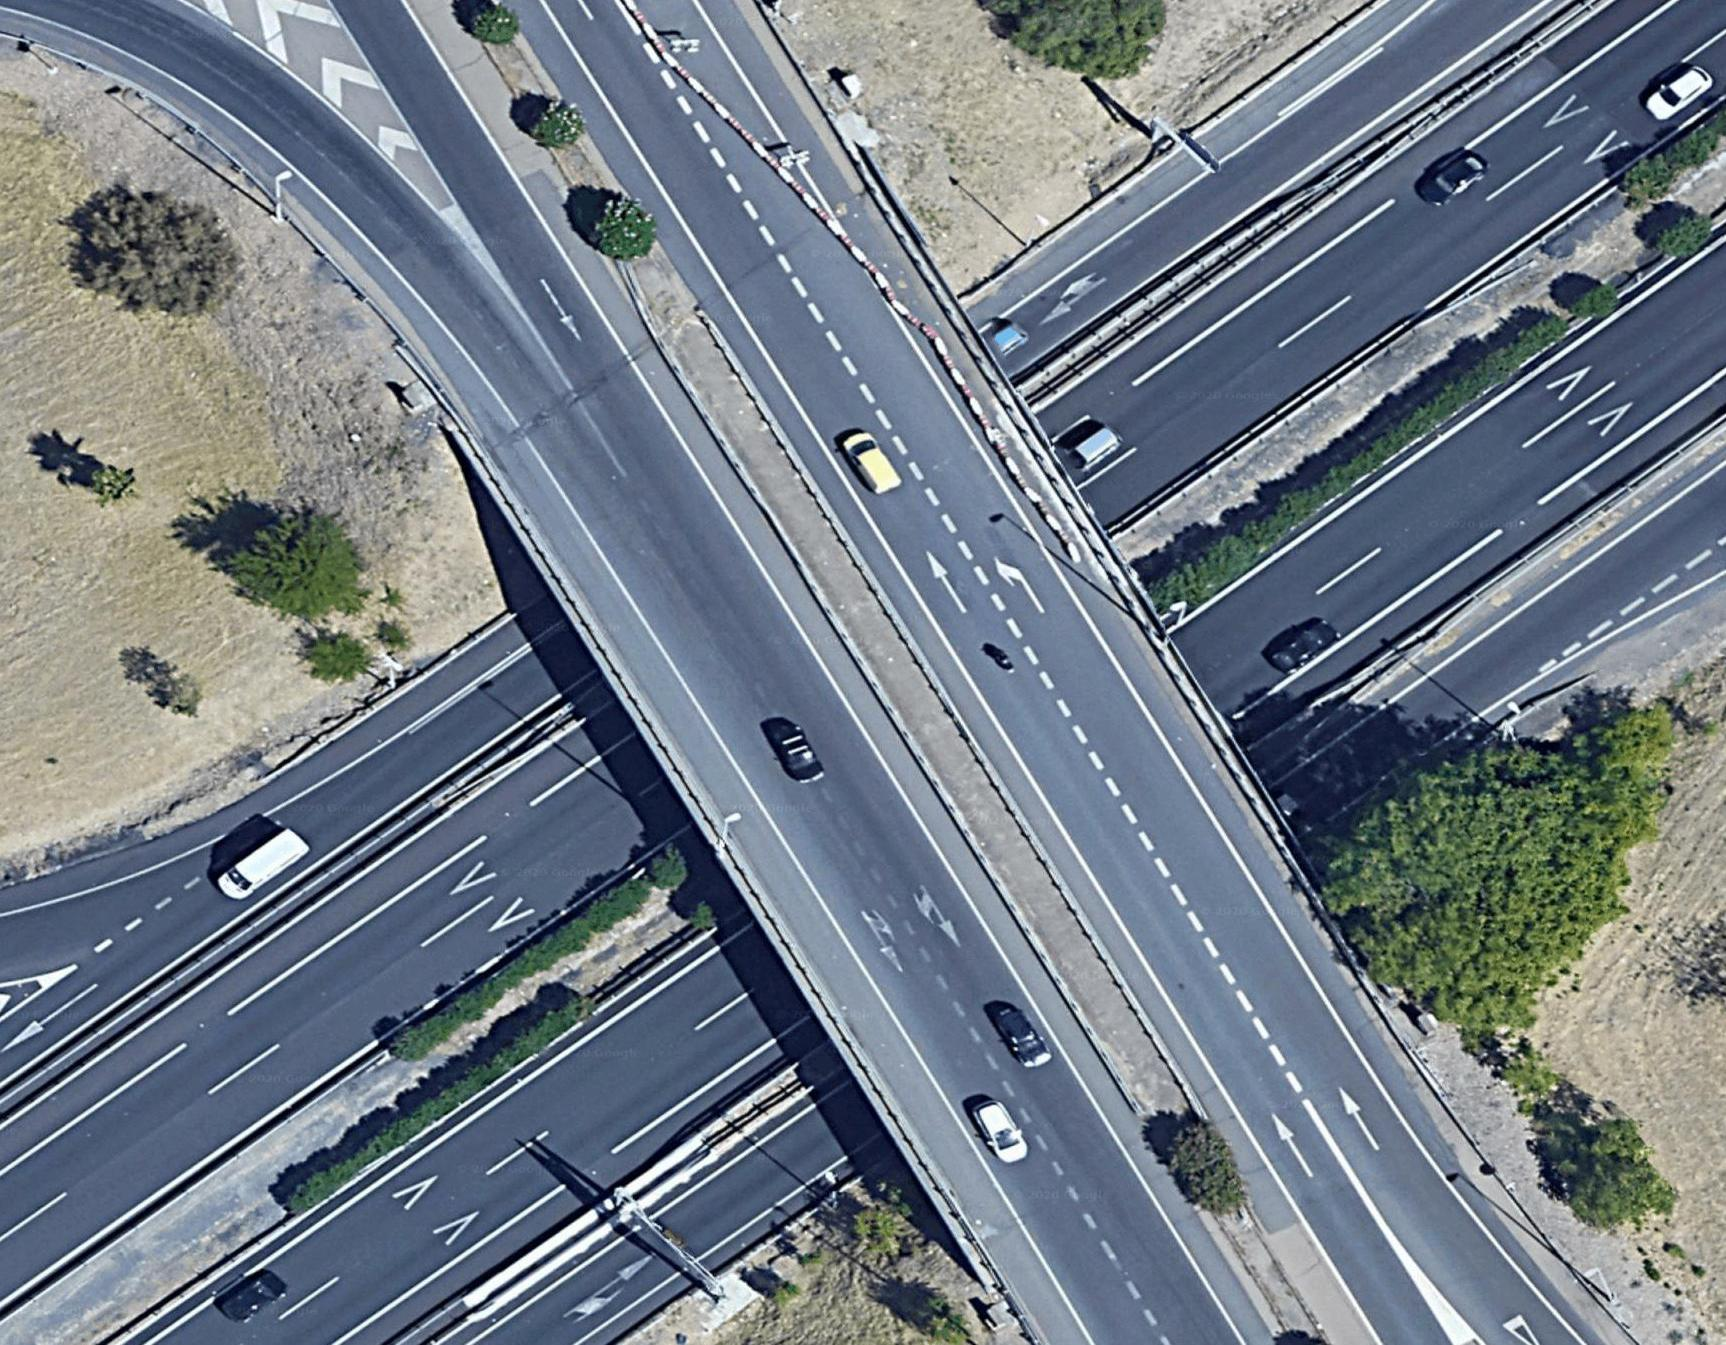bridge: (340, 311, 1594, 1234)
large-vehicle: (209, 825, 310, 904)
small-vehicle: (1642, 59, 1713, 125), (968, 1093, 1028, 1163), (838, 423, 897, 495), (1419, 144, 1486, 206), (988, 1000, 1049, 1066), (219, 1264, 282, 1324)
